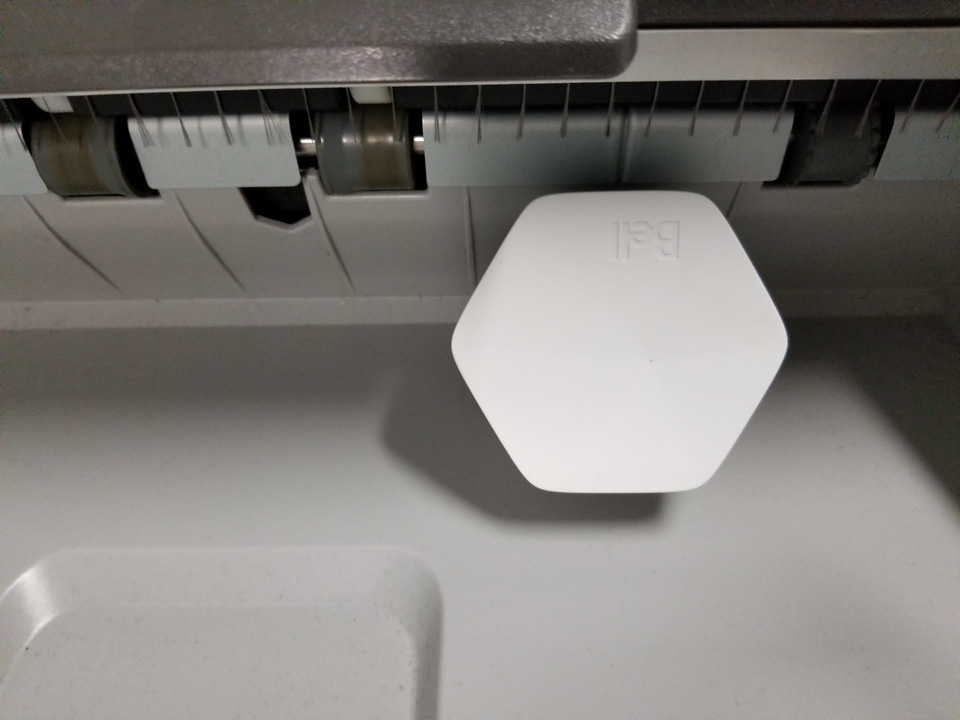pod: (441, 180, 801, 504)
